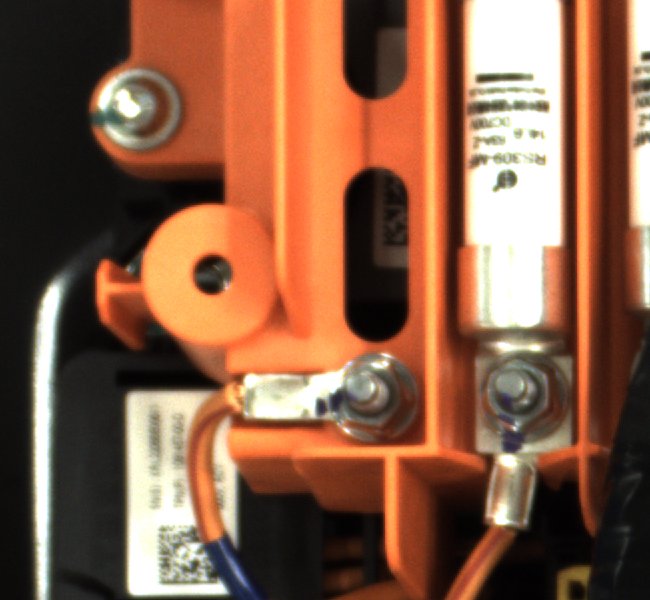screw_s: (86, 62, 187, 150), (321, 346, 410, 438), (472, 354, 565, 430)
